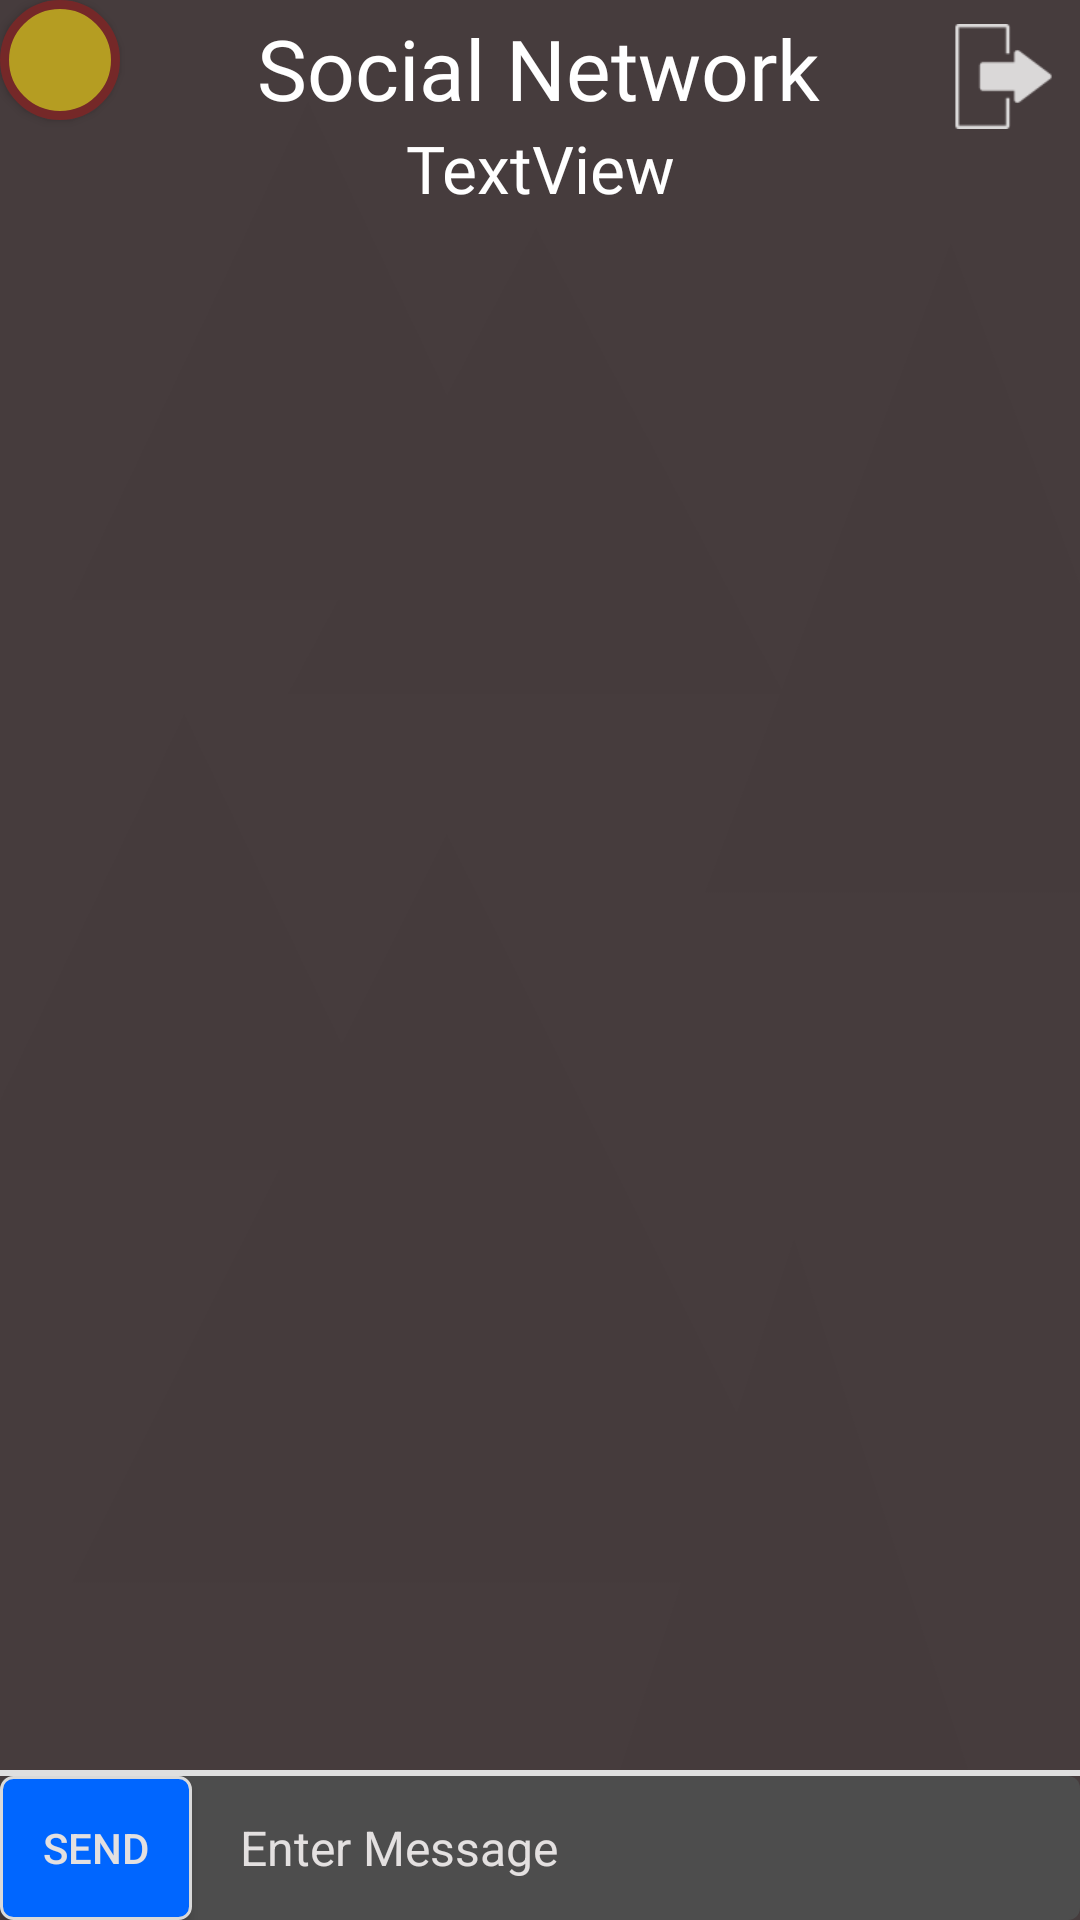

Icon bounding boxes for this 1080x1920 phone screenshot, format box=[x1, y1, x2, y2]:
log out: box=[955, 24, 1052, 129]
